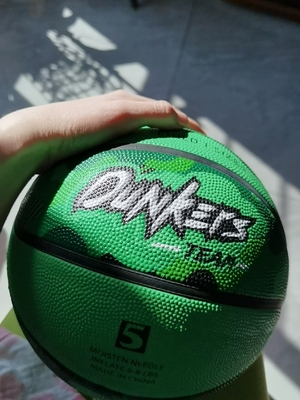ball: (7, 121, 290, 400)
